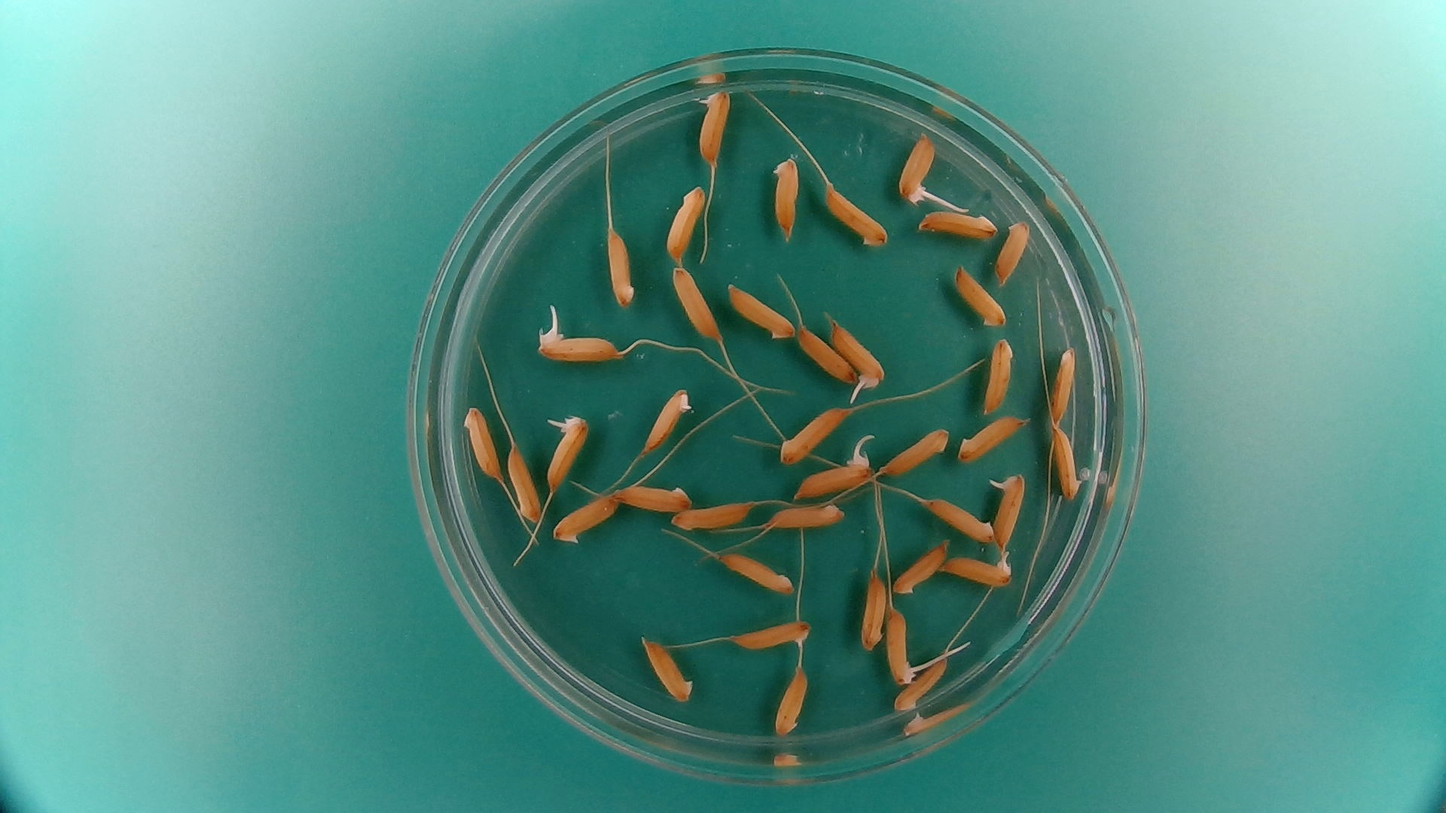no: (775, 403, 851, 465), (819, 184, 889, 251), (876, 422, 956, 480), (725, 281, 798, 341), (639, 632, 696, 705), (795, 321, 860, 385), (951, 262, 1010, 329), (955, 413, 1029, 466), (670, 264, 721, 340), (640, 385, 695, 455), (550, 492, 621, 546), (891, 536, 952, 597), (459, 402, 504, 483), (663, 180, 706, 264), (715, 551, 795, 595), (924, 496, 996, 544), (891, 656, 950, 714), (730, 617, 813, 656), (667, 498, 755, 534), (769, 150, 803, 241), (915, 204, 1000, 240), (504, 442, 541, 524), (604, 225, 639, 309), (771, 663, 810, 738), (1049, 422, 1083, 507), (615, 478, 694, 514), (982, 333, 1017, 414), (993, 215, 1031, 288), (763, 498, 848, 530), (1048, 343, 1078, 425), (859, 570, 889, 651)
yes: (825, 318, 889, 391), (790, 450, 868, 501), (546, 413, 592, 492), (895, 129, 941, 206), (988, 468, 1029, 551), (938, 549, 1020, 589), (535, 327, 620, 364), (694, 84, 730, 163), (883, 610, 918, 687)
